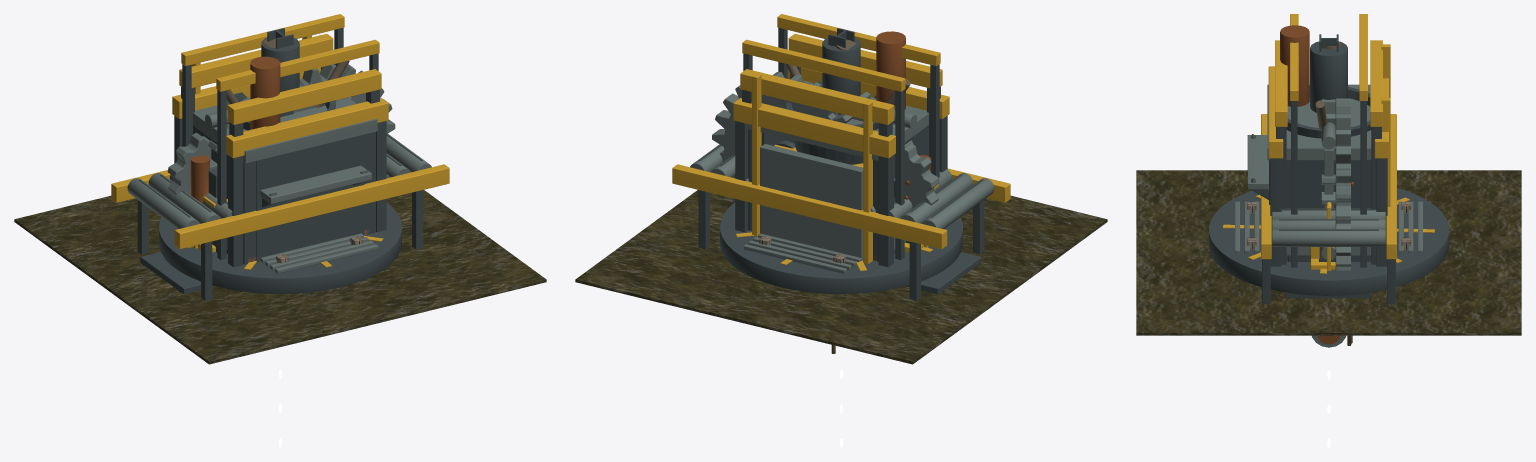
File: factory_props.glb
3 views of the same model, side by side, from view 1: azimuth 30°, elevation 25°; view 2: azimuth 150°, elevation 25°; view 3: azimuth 270°, elevation 25° (orthographic).
Parts seen in each view (by area): view 1: p_fac_water, p_fac_furnace, p_fac_conveyor, p_fac_platform:0, p_fac_ladle, p_fac_press, p_fac_hoist, p_fac_walkway, p_fac_stairs, p_fac_gear_pair, p_fac_conveyor:0, p_fac_gear_pair:1 (+4 smaller); view 2: p_fac_water, p_fac_conveyor, p_fac_ladle, p_fac_furnace:0, p_fac_platform:0, p_fac_hoist, p_fac_press, p_fac_furnace, p_fac_gear_pair:0, p_fac_walkway, p_fac_gear_pair:1, p_fac_conveyor:0 (+3 smaller); view 3: p_fac_water, p_fac_platform:0, p_fac_furnace, p_fac_press, p_fac_ladle, p_fac_hoist, p_fac_conveyor, p_fac_gear_pair:0, p_fac_conveyor:11, p_fac_walkway, p_fac_stairs, p_fac_conveyor:10 (+6 smaller).
Boxes of the visible parts, x1=… form: p_fac_water: x1=14, y1=190, x2=546, y2=364; p_fac_furnace: x1=191, y1=35, x2=377, y2=264; p_fac_conveyor: x1=111, y1=164, x2=449, y2=300; p_fac_platform:0: x1=159, y1=202, x2=401, y2=293; p_fac_ladle: x1=172, y1=67, x2=388, y2=267; p_fac_press: x1=179, y1=33, x2=381, y2=249; p_fac_hoist: x1=181, y1=14, x2=379, y2=259; p_fac_walkway: x1=260, y1=233, x2=378, y2=273; p_fac_stairs: x1=260, y1=165, x2=371, y2=207; p_fac_gear_pair: x1=140, y1=168, x2=227, y2=294; p_fac_conveyor:0: x1=127, y1=178, x2=199, y2=228; p_fac_gear_pair:1: x1=167, y1=132, x2=211, y2=194; p_fac_water: x1=575, y1=190, x2=1107, y2=364; p_fac_conveyor: x1=672, y1=164, x2=1010, y2=300; p_fac_ladle: x1=733, y1=67, x2=949, y2=267; p_fac_furnace:0: x1=760, y1=144, x2=863, y2=260; p_fac_platform:0: x1=720, y1=202, x2=962, y2=293; p_fac_hoist: x1=742, y1=14, x2=940, y2=259; p_fac_press: x1=740, y1=33, x2=942, y2=249; p_fac_furnace: x1=747, y1=31, x2=928, y2=263; p_fac_gear_pair:0: x1=712, y1=72, x2=852, y2=201; p_fac_walkway: x1=743, y1=233, x2=861, y2=273; p_fac_gear_pair:1: x1=894, y1=143, x2=939, y2=208; p_fac_conveyor:0: x1=922, y1=178, x2=994, y2=228; p_fac_water: x1=1136, y1=170, x2=1521, y2=335; p_fac_platform:0: x1=1208, y1=188, x2=1449, y2=295; p_fac_furnace: x1=1267, y1=25, x2=1390, y2=261; p_fac_press: x1=1275, y1=40, x2=1382, y2=264; p_fac_ladle: x1=1268, y1=66, x2=1389, y2=266; p_fac_hoist: x1=1290, y1=14, x2=1367, y2=267; p_fac_conveyor: x1=1261, y1=114, x2=1396, y2=304; p_fac_gear_pair:0: x1=1335, y1=98, x2=1353, y2=270; p_fac_conveyor:11: x1=1272, y1=229, x2=1385, y2=246; p_fac_walkway: x1=1235, y1=201, x2=1422, y2=253; p_fac_stairs: x1=1247, y1=134, x2=1268, y2=199; p_fac_conveyor:10: x1=1272, y1=219, x2=1385, y2=228.
Size of the model in its own units: 4 by 4.69 by 4.
16 materials, 2 textured.
